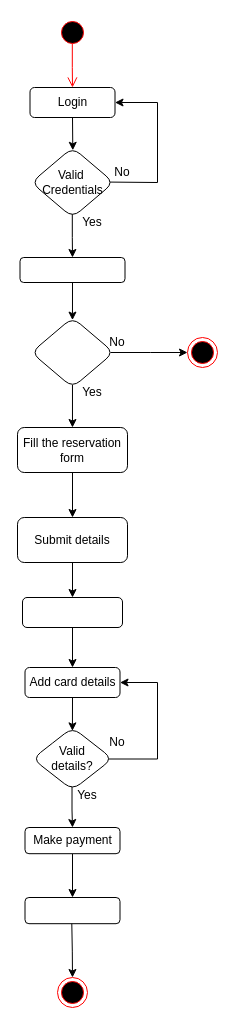
Some shapes in this 235 by 1025 pixel diagram are drawn without their labels. The centre of each missing label's shape, as x and y in pixels:
"Available?" goes at pixel 72 352.
"Book ticket" goes at pixel 72 612.
"Check availability" goes at pixel 72 269.
"Print ticket" goes at pixel 72 910.
